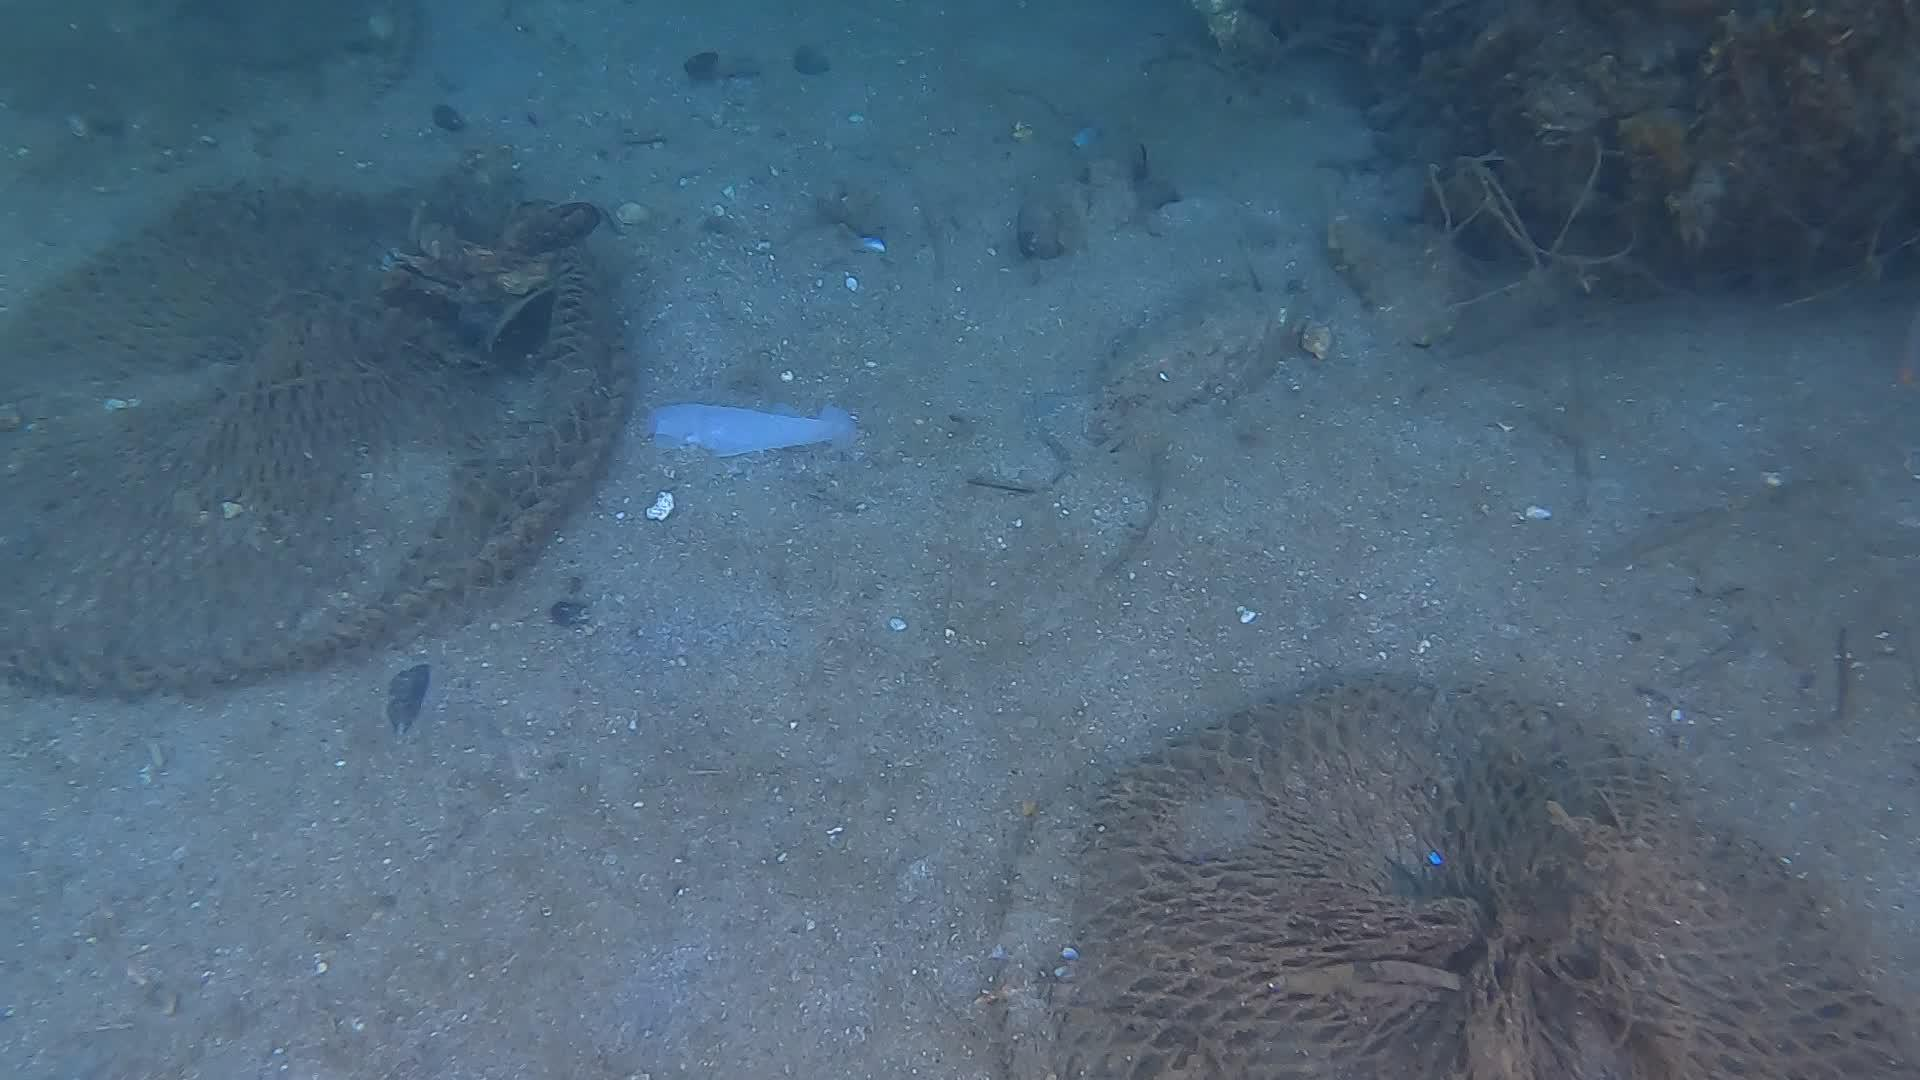circular fish trap: (982, 655, 1920, 1080), (0, 156, 640, 698)
